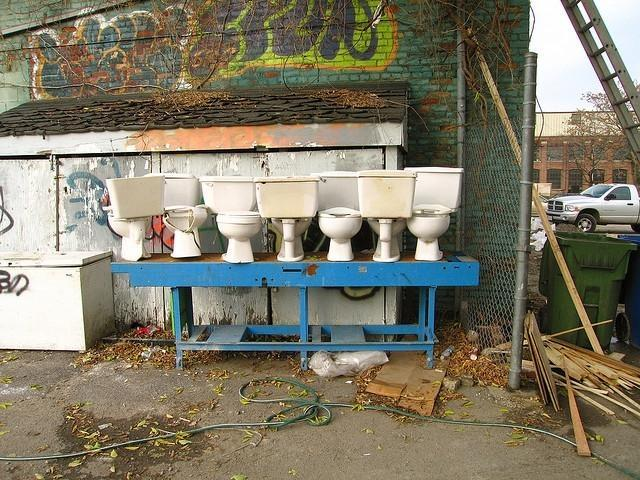car: (532, 194, 550, 219)
truck: (546, 183, 640, 233)
